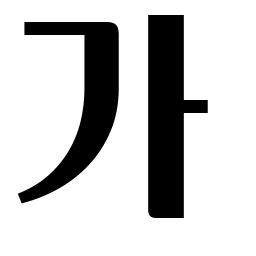Gaji: (134, 84, 199, 137)
